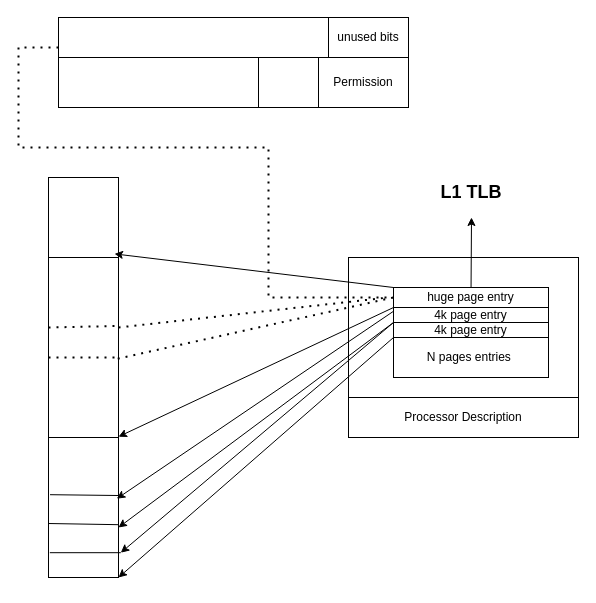
This 596x603 diagram has some shape labels left out. The centre of each missing label's shape, as x and y in pixels:
48 bit free Virtual address: pixel 193 37
bounds Upper [11:3] Bottom[13:3 ]: pixel 158 82
object type: pixel 288 82
